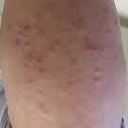Cellulitis: (14, 24, 54, 77), (83, 42, 109, 89)
